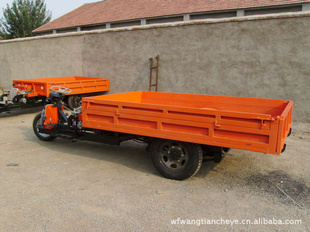tricycle: (19, 63, 294, 190)
